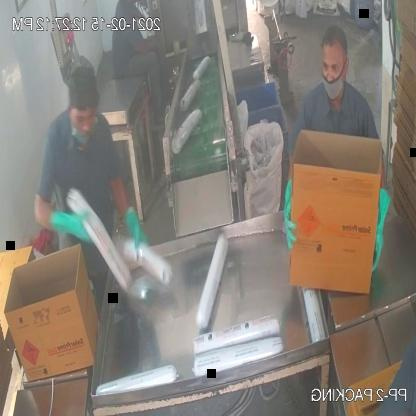glove: (365, 183, 400, 271), (47, 200, 100, 250), (118, 208, 152, 262), (136, 39, 166, 59)
